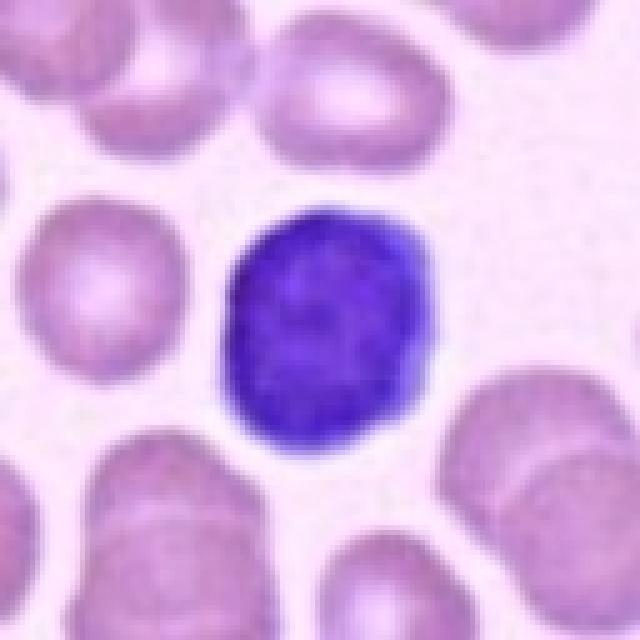lympho: (216, 199, 443, 460)
